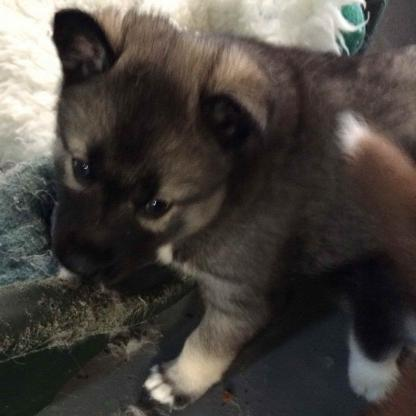husky: (46, 7, 416, 411)
